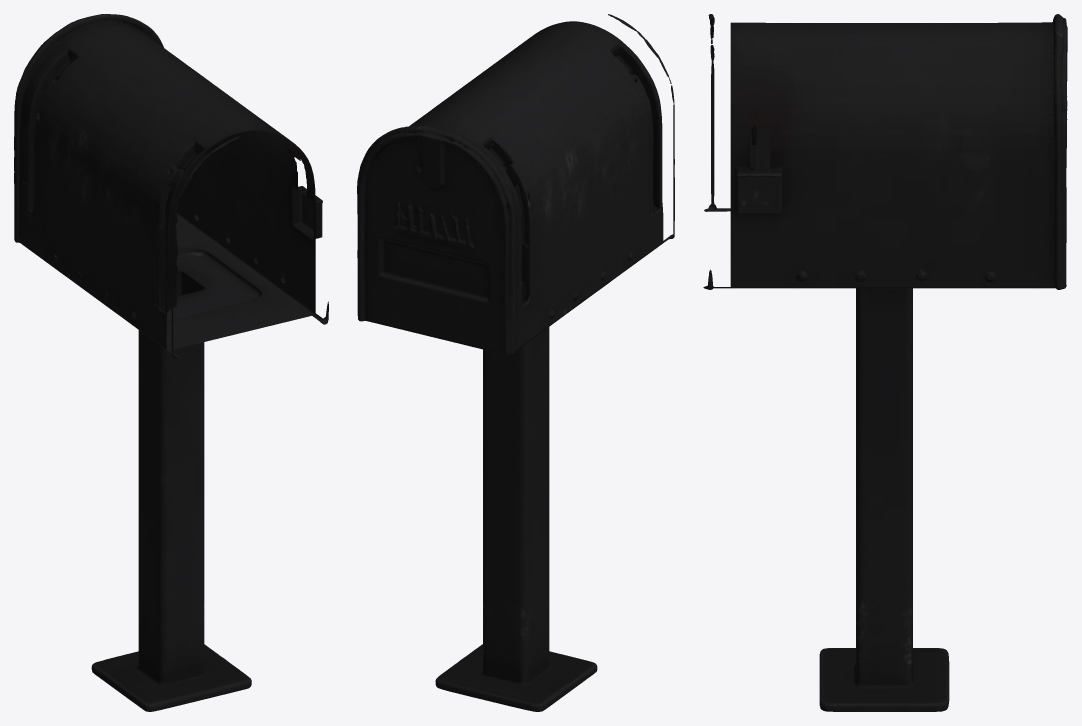
File: mailbox_body.glb
The picture shows the model from 3 angles, left to right: view 1: azimuth 30°, elevation 25°; view 2: azimuth 150°, elevation 25°; view 3: azimuth 270°, elevation 25°; orthographic projection. The views are drawn at different scales.
Visible parts, largest first — view 1: source_surface_0; view 2: source_surface_0; view 3: source_surface_0.
Boxes of the visible parts, left/top/right/bottom form: source_surface_0: left=14, top=14, right=328, bottom=711; source_surface_0: left=357, top=14, right=674, bottom=711; source_surface_0: left=703, top=14, right=1067, bottom=711.
Size of the model in its own units: 0.4207 by 1.49 by 0.7497.
1 material, 1 textured.
